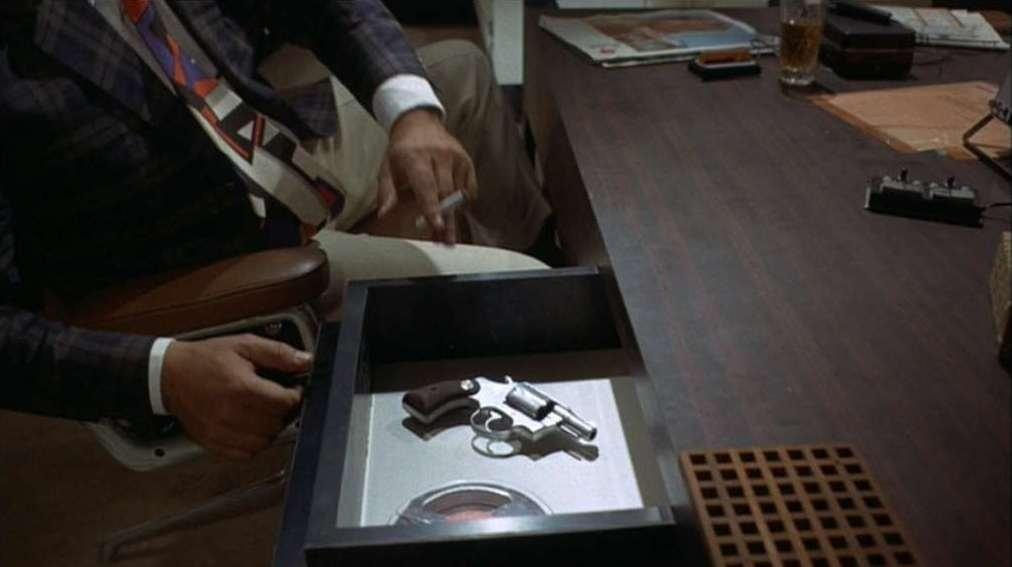gun: (395, 350, 601, 475)
